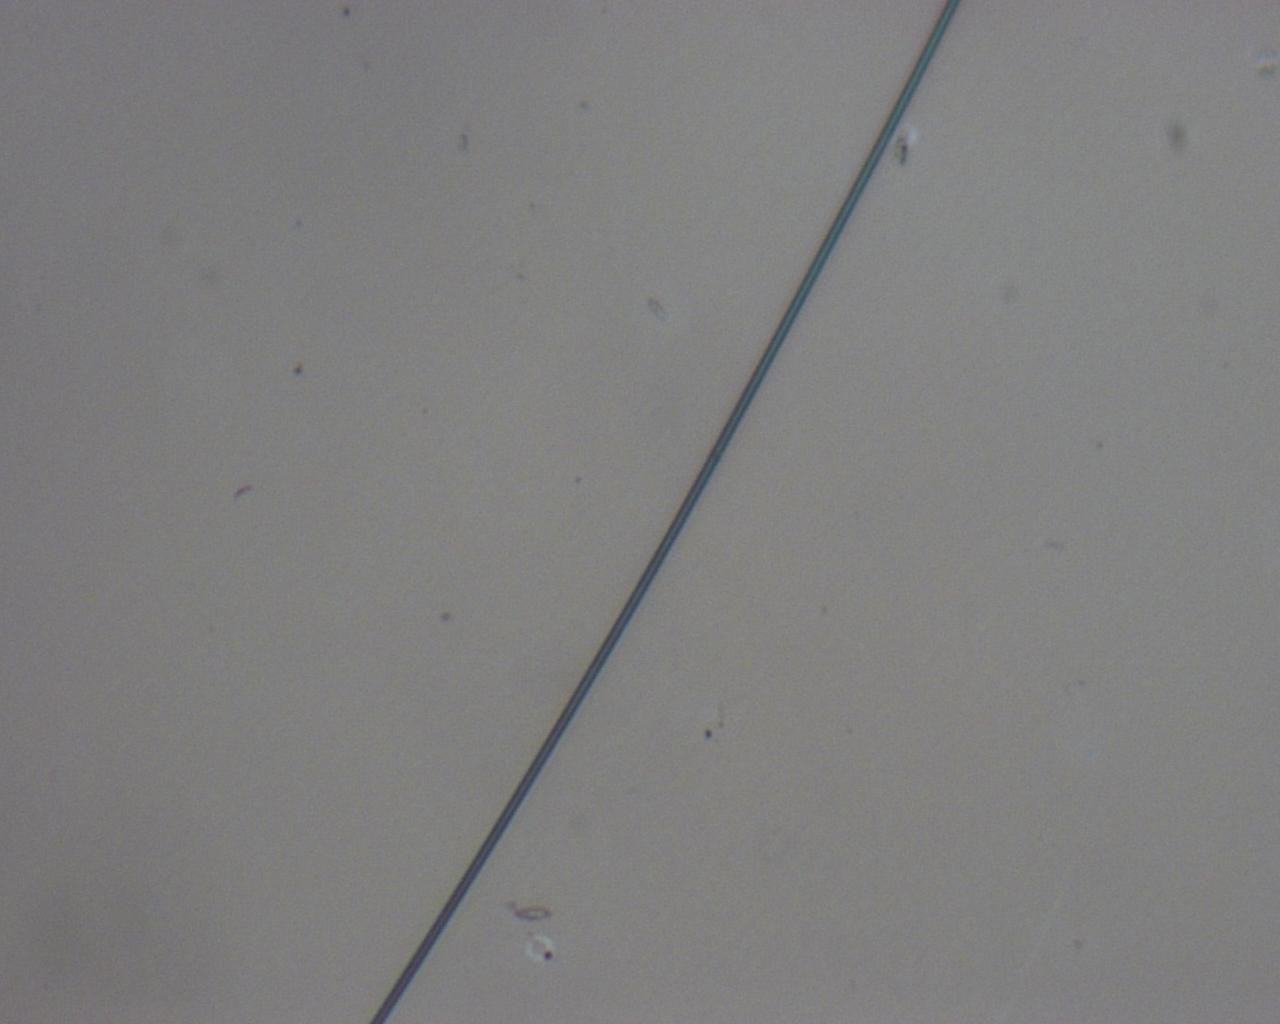fiber: (367, 0, 968, 1024)
